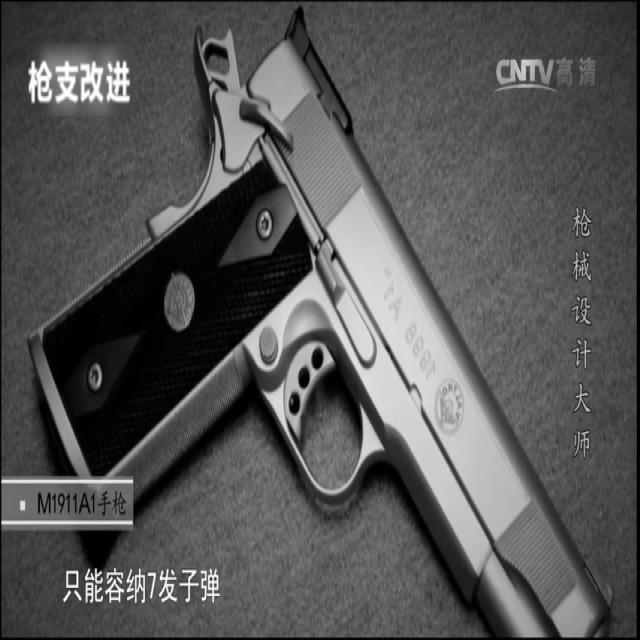Hand-Gun: (37, 10, 603, 622)
